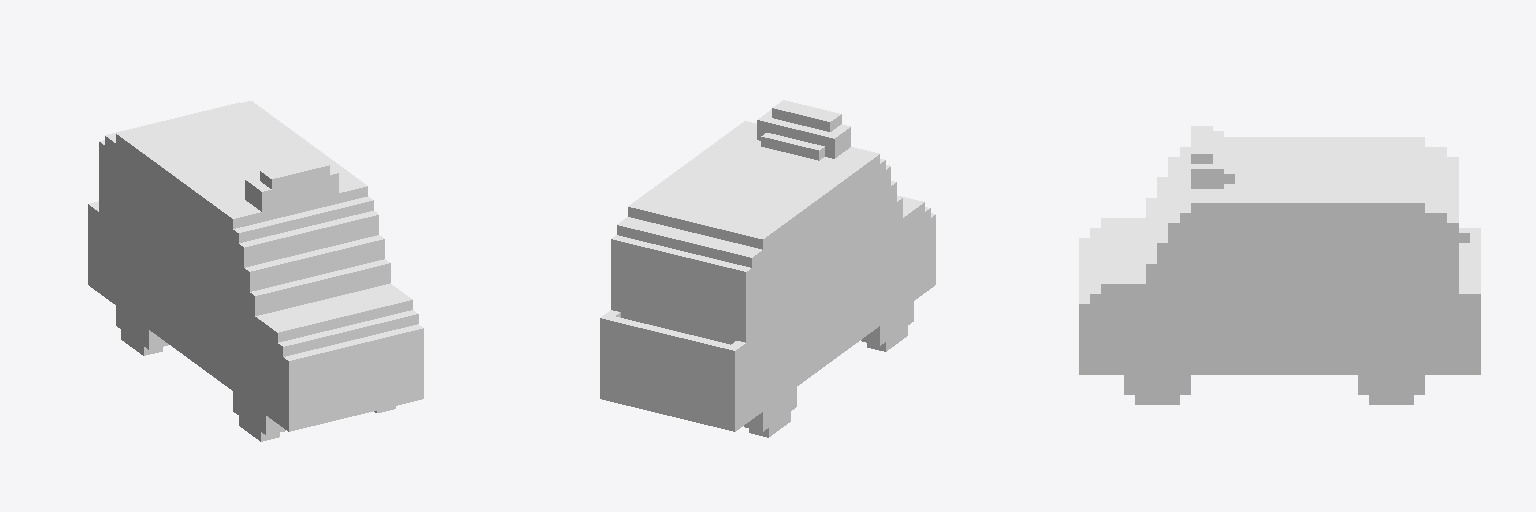
Rendered from london.obj.
3 views of the same model, side by side, from view 1: azimuth 30°, elevation 25°; view 2: azimuth 150°, elevation 25°; view 3: azimuth 270°, elevation 25° (orthographic).
Visible parts, largest first — view 1: object 1; view 2: object 1; view 3: object 1.
Part boxes in pixels (x1,y1,x2,y2): object 1: (88,101,423,441); object 1: (600,100,935,437); object 1: (1079,126,1480,404).
Bounding box in the file's own units: 1.4 × 2.3 × 3.6.